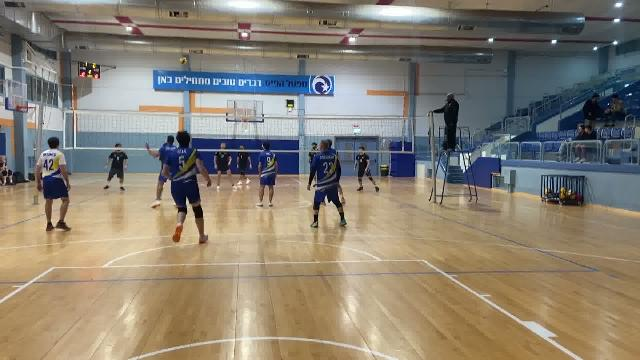ball: (180, 56, 191, 67)
